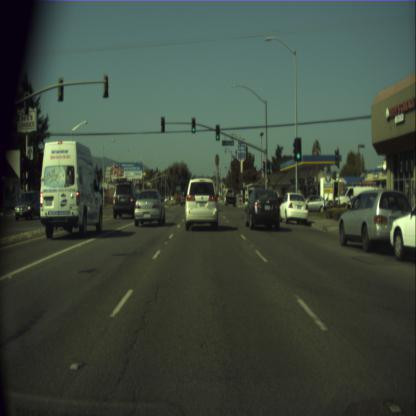Green: (295, 137, 301, 160), (191, 116, 196, 133), (215, 124, 220, 141), (266, 160, 270, 172)
RedLeft: (161, 116, 165, 132)
